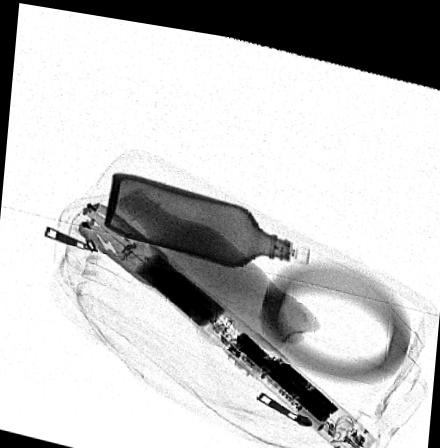Baton: (76, 199, 378, 448)
